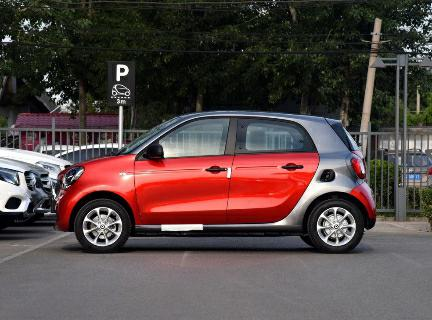smart-forfour: (47, 115, 383, 255)
